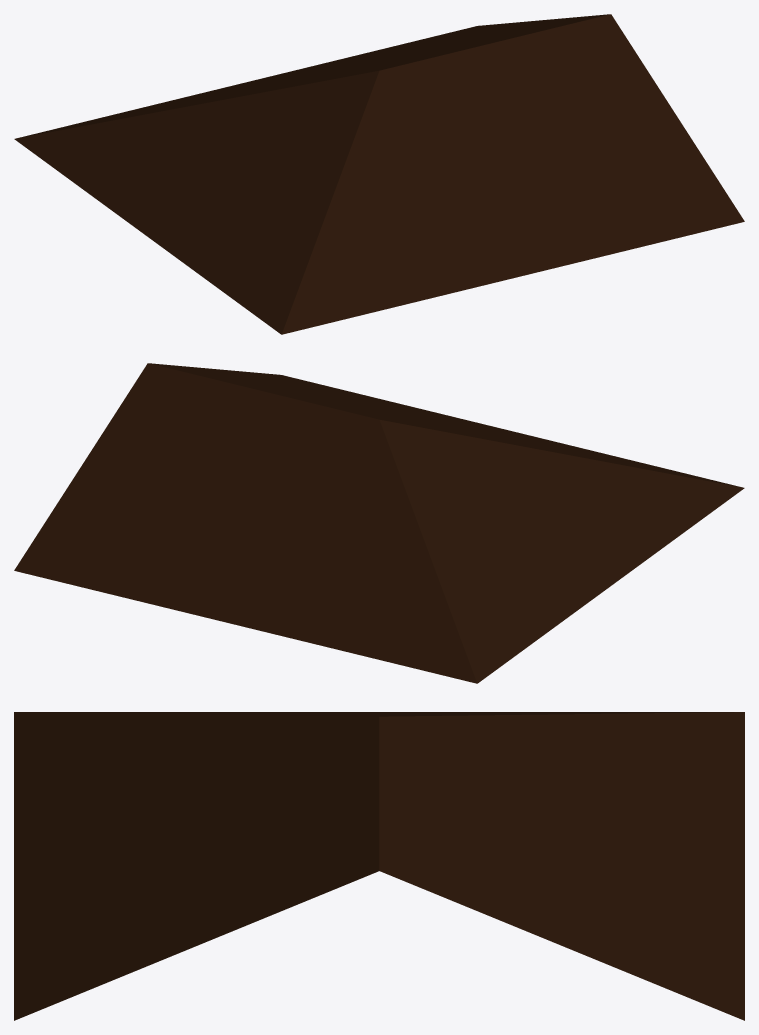
File: Roof_01AB.fbx
3 views of the same model, one above another, from view 1: azimuth 30°, elevation 25°; view 2: azimuth 150°, elevation 25°; view 3: azimuth 270°, elevation 25° (orthographic). The views are drawn at different scales.
Parts seen in each view (by area): view 1: Roof_01E; view 2: Roof_01E; view 3: Roof_01E.
Boxes of the visible parts, x1,y1,x2,y2 form: Roof_01E: [14, 14, 744, 334]; Roof_01E: [14, 363, 744, 683]; Roof_01E: [14, 712, 744, 1020].
Size of the model in its own units: 300 by 67.87 by 300.
